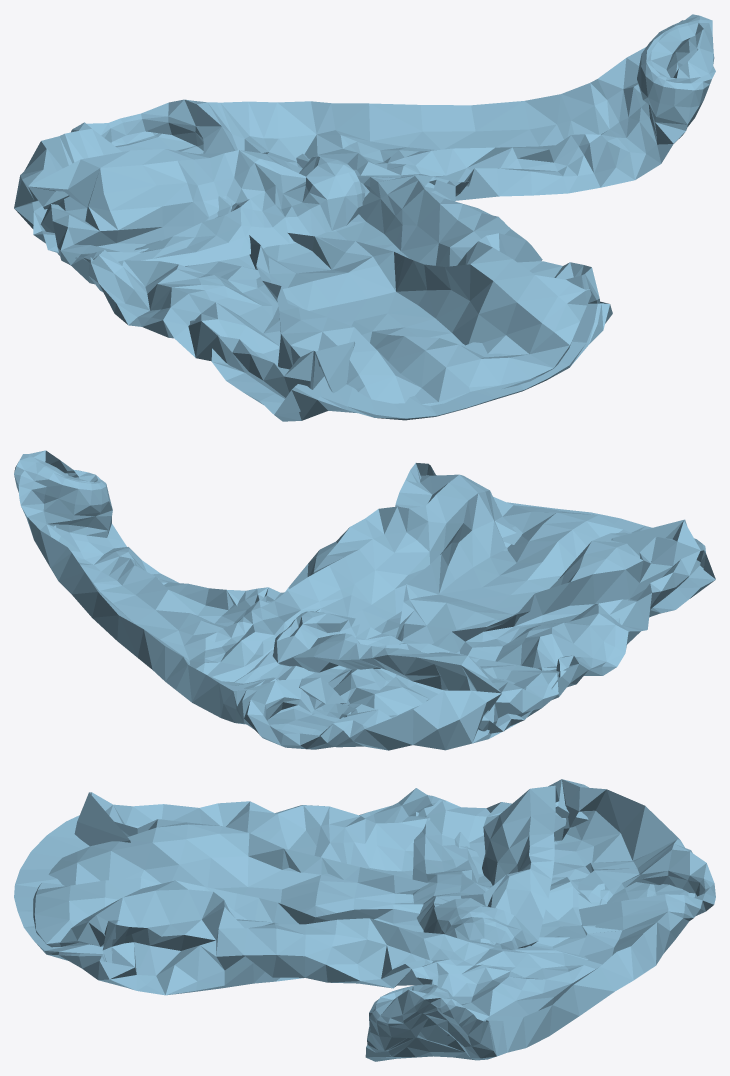
File: frame_02.glb
3 renders of one model, top to bottom at view 1: azimuth 30°, elevation 25°; view 2: azimuth 150°, elevation 25°; view 3: azimuth 270°, elevation 25°, orthographic. The views are drawn at different scales.
Parts seen in each view (by area): view 1: frame_02.obj; view 2: frame_02.obj; view 3: frame_02.obj.
Part boxes in pixels (<box>): frame_02.obj: <box>14,14,715,421</box>; frame_02.obj: <box>14,450,715,750</box>; frame_02.obj: <box>14,779,715,1061</box>.
Bounding box in the file's own units: 1.58 × 0.3548 × 1.6.
